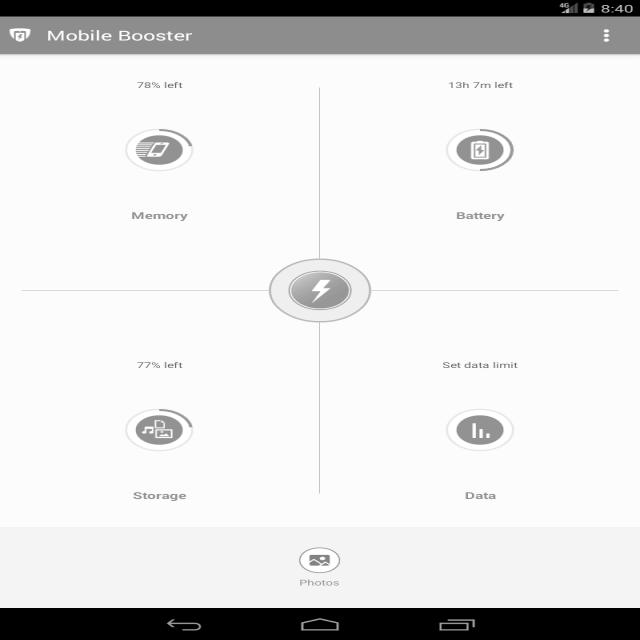ImageButton: (588, 20, 618, 52)
ImageView: (257, 255, 399, 322), (429, 123, 542, 175), (430, 400, 520, 450), (118, 403, 205, 453), (118, 124, 207, 170), (290, 543, 350, 573), (2, 22, 32, 44)
TextView: (38, 26, 210, 44), (436, 353, 534, 372), (121, 483, 202, 502), (444, 204, 518, 223), (450, 482, 508, 502)
